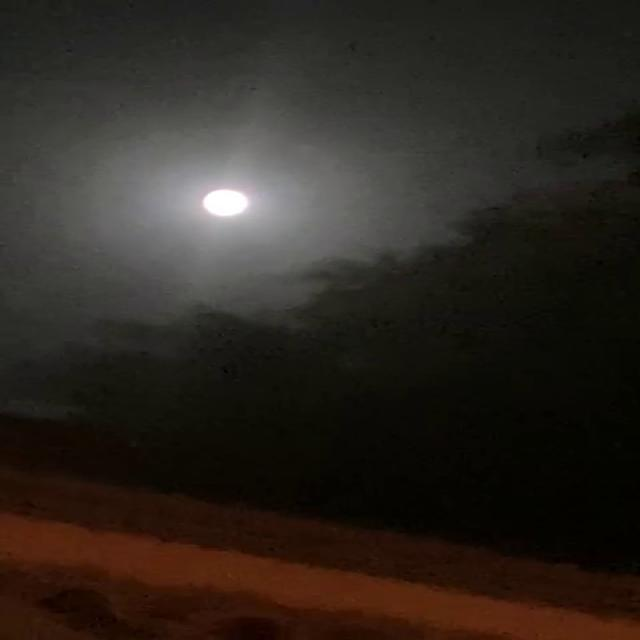moon: (203, 190, 255, 224)
